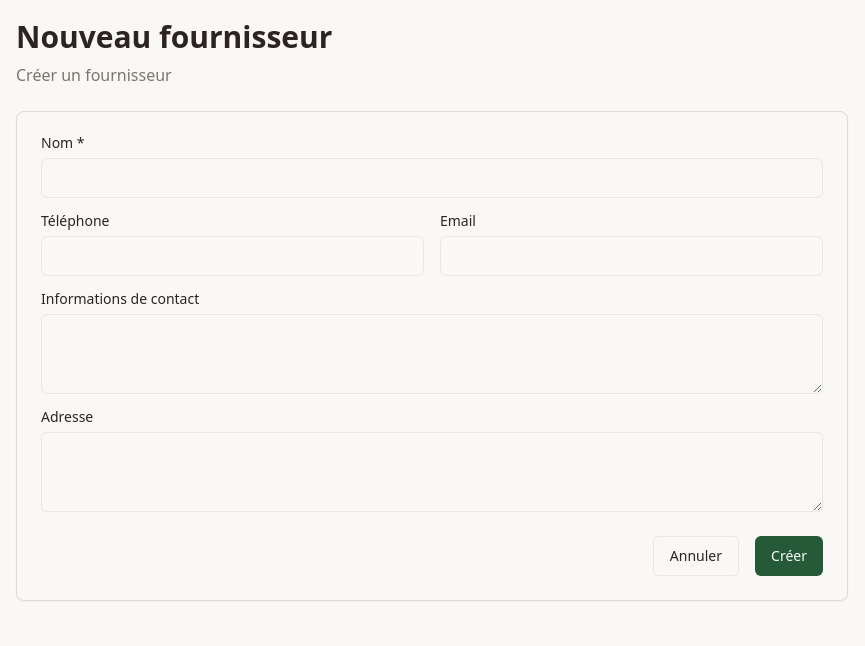
Scenario: SuppliersCreatePage › renders the create page and shows validation errors
Expected: the heading "Nouveau fournisseur" is shown, [16,16,332,57]
Click the button "Créer": [789, 556] box [755,536,823,576]
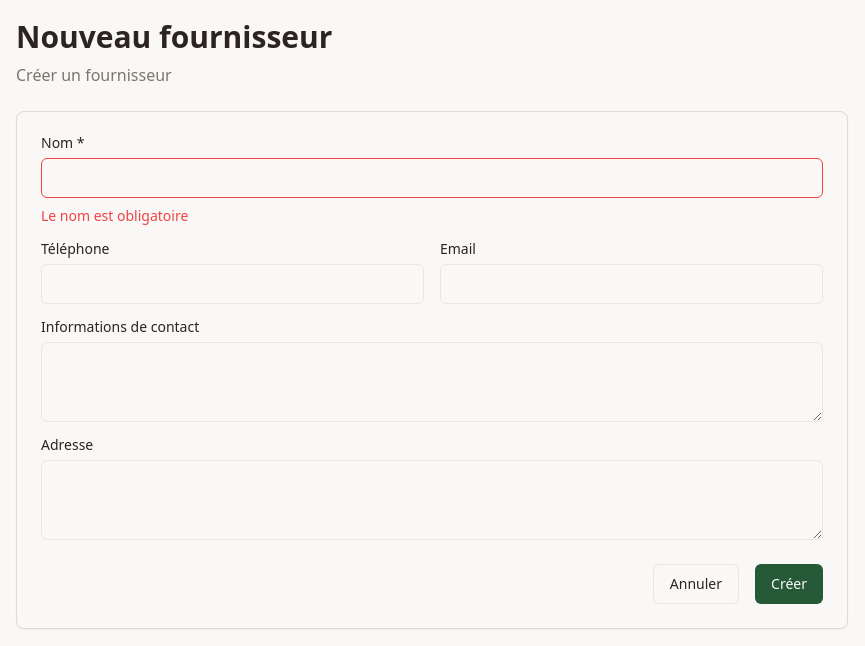
Expected: the text "Le nom est obligatoire" is shown, [41,206,188,225]
